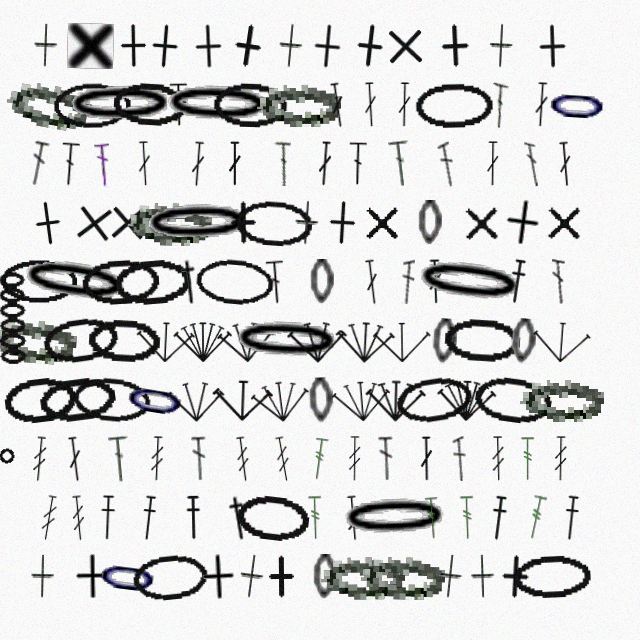chain: (16, 251, 134, 312), (411, 253, 528, 311), (161, 80, 275, 129), (230, 316, 344, 365), (338, 493, 452, 542), (141, 199, 255, 247), (64, 81, 177, 128), (4, 76, 94, 134), (393, 372, 476, 428), (471, 372, 554, 427), (40, 313, 122, 368), (36, 373, 118, 427), (71, 374, 153, 426), (130, 551, 211, 603), (1, 373, 80, 426), (234, 491, 313, 544), (194, 256, 276, 307), (112, 256, 192, 307), (0, 315, 78, 366), (234, 198, 313, 248), (80, 257, 160, 306), (127, 200, 212, 246), (442, 316, 521, 365), (321, 554, 405, 600), (361, 554, 445, 600), (111, 80, 189, 129), (512, 553, 591, 601), (257, 82, 341, 127), (520, 377, 604, 422), (121, 373, 190, 427), (86, 317, 163, 365), (53, 82, 132, 128), (414, 82, 493, 128), (212, 81, 289, 128), (94, 551, 162, 603), (0, 259, 77, 304), (545, 81, 610, 129), (431, 318, 458, 364), (510, 318, 537, 364), (308, 377, 334, 423), (418, 200, 442, 245), (310, 259, 334, 304), (313, 554, 337, 599)
double: (388, 140, 413, 187), (27, 140, 50, 187), (108, 436, 131, 482), (59, 141, 81, 187), (265, 259, 287, 305), (327, 82, 348, 128), (437, 141, 457, 187), (362, 259, 382, 305), (65, 436, 85, 482), (169, 82, 189, 127), (348, 141, 368, 186), (490, 82, 509, 128), (94, 141, 112, 187), (189, 141, 207, 187), (556, 141, 574, 187), (316, 141, 334, 186), (524, 141, 541, 187), (362, 82, 379, 127), (533, 82, 550, 127), (136, 141, 153, 186), (274, 141, 291, 186), (191, 436, 208, 481), (378, 436, 395, 481), (427, 259, 443, 304), (452, 436, 468, 481), (397, 82, 412, 127), (227, 141, 242, 186), (485, 141, 500, 186), (419, 436, 434, 481), (401, 259, 415, 304), (552, 259, 565, 304)
enseble_chain: (0, 271, 29, 368)
fan: (248, 374, 313, 426), (530, 316, 593, 365), (330, 375, 393, 424), (215, 316, 277, 365), (334, 317, 396, 365), (135, 317, 196, 364), (212, 376, 273, 423), (436, 376, 497, 423), (287, 318, 348, 364), (365, 377, 426, 423), (166, 377, 226, 423), (173, 318, 233, 363), (372, 318, 432, 363)
half_double: (223, 494, 254, 542), (175, 259, 204, 305), (506, 258, 529, 305), (487, 495, 510, 541), (138, 495, 159, 541), (561, 495, 582, 541), (98, 495, 117, 540), (184, 495, 202, 540)
noise: (0, 446, 16, 465)
single: (222, 20, 273, 71), (23, 198, 73, 248), (69, 198, 119, 248), (345, 21, 394, 70), (141, 22, 189, 70), (303, 22, 351, 70), (431, 22, 478, 69), (104, 199, 151, 246), (319, 199, 366, 246), (492, 553, 539, 600), (67, 23, 114, 69), (185, 23, 231, 69), (382, 23, 428, 69), (529, 23, 575, 69), (458, 200, 504, 246), (111, 23, 156, 68), (221, 200, 266, 245), (359, 200, 404, 245), (541, 200, 586, 245), (259, 554, 304, 599), (502, 198, 542, 247), (199, 554, 236, 600), (74, 554, 109, 599), (238, 553, 266, 600), (437, 553, 464, 600), (278, 23, 304, 69), (294, 200, 320, 246), (489, 23, 514, 69), (34, 23, 58, 68), (31, 554, 55, 599), (471, 554, 495, 599)
treble: (524, 494, 548, 541), (272, 436, 294, 482), (38, 495, 60, 541), (309, 436, 330, 482), (233, 436, 253, 482), (30, 436, 49, 482), (69, 495, 88, 541), (423, 495, 442, 541), (344, 495, 362, 541), (307, 495, 324, 540), (459, 495, 476, 540), (149, 436, 165, 481), (490, 436, 506, 481), (520, 436, 536, 481), (347, 436, 362, 481), (553, 436, 568, 481)
